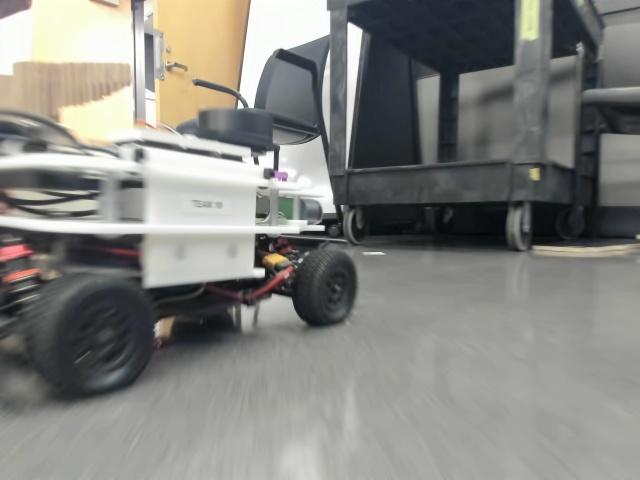Car: (0, 100, 361, 397)
